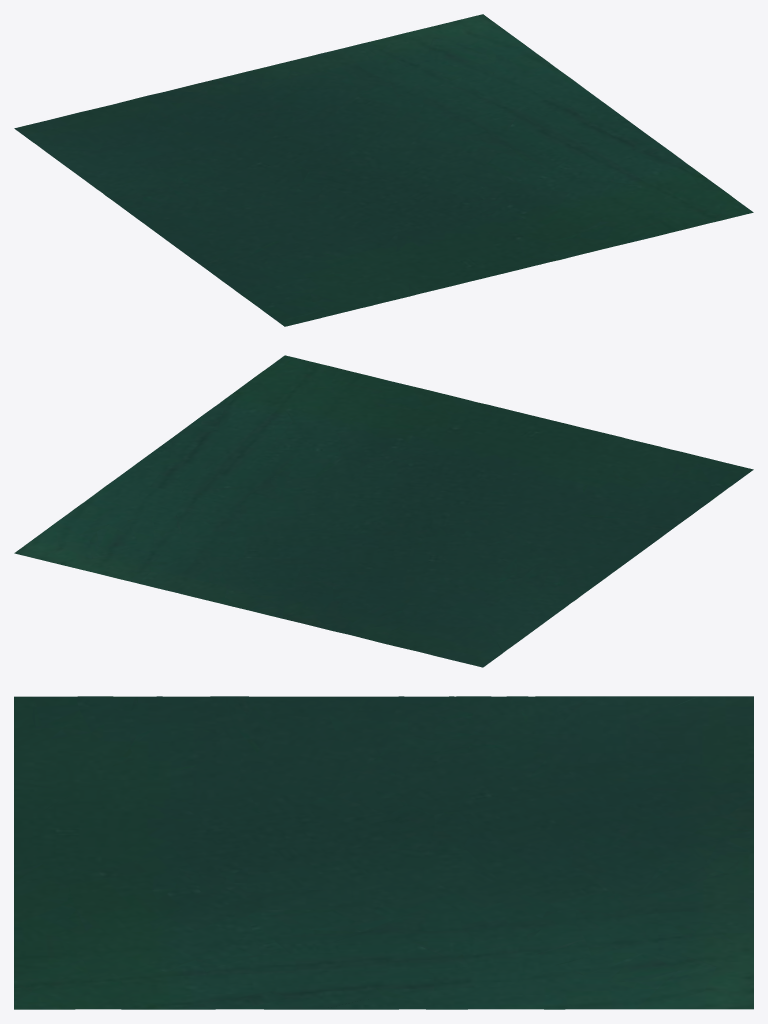
3 views of the same model, one above another, from view 1: azimuth 30°, elevation 25°; view 2: azimuth 150°, elevation 25°; view 3: azimuth 270°, elevation 25° (orthographic). The views are drawn at different scales.
Size of the model in its own units: 418 by 0.6485 by 418.
3 materials, 3 textured.
